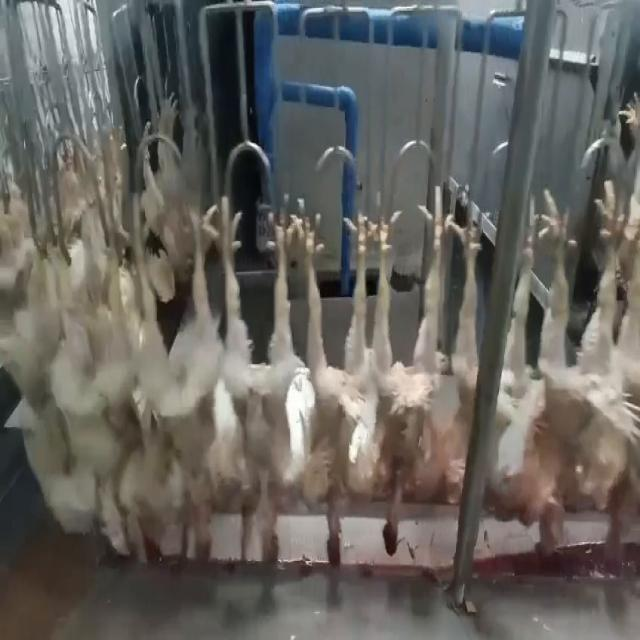chicken: (292, 192, 378, 572), (494, 186, 577, 555), (217, 190, 295, 578), (138, 190, 215, 580), (54, 194, 132, 555), (373, 186, 446, 560), (590, 85, 639, 551), (445, 194, 483, 516)
